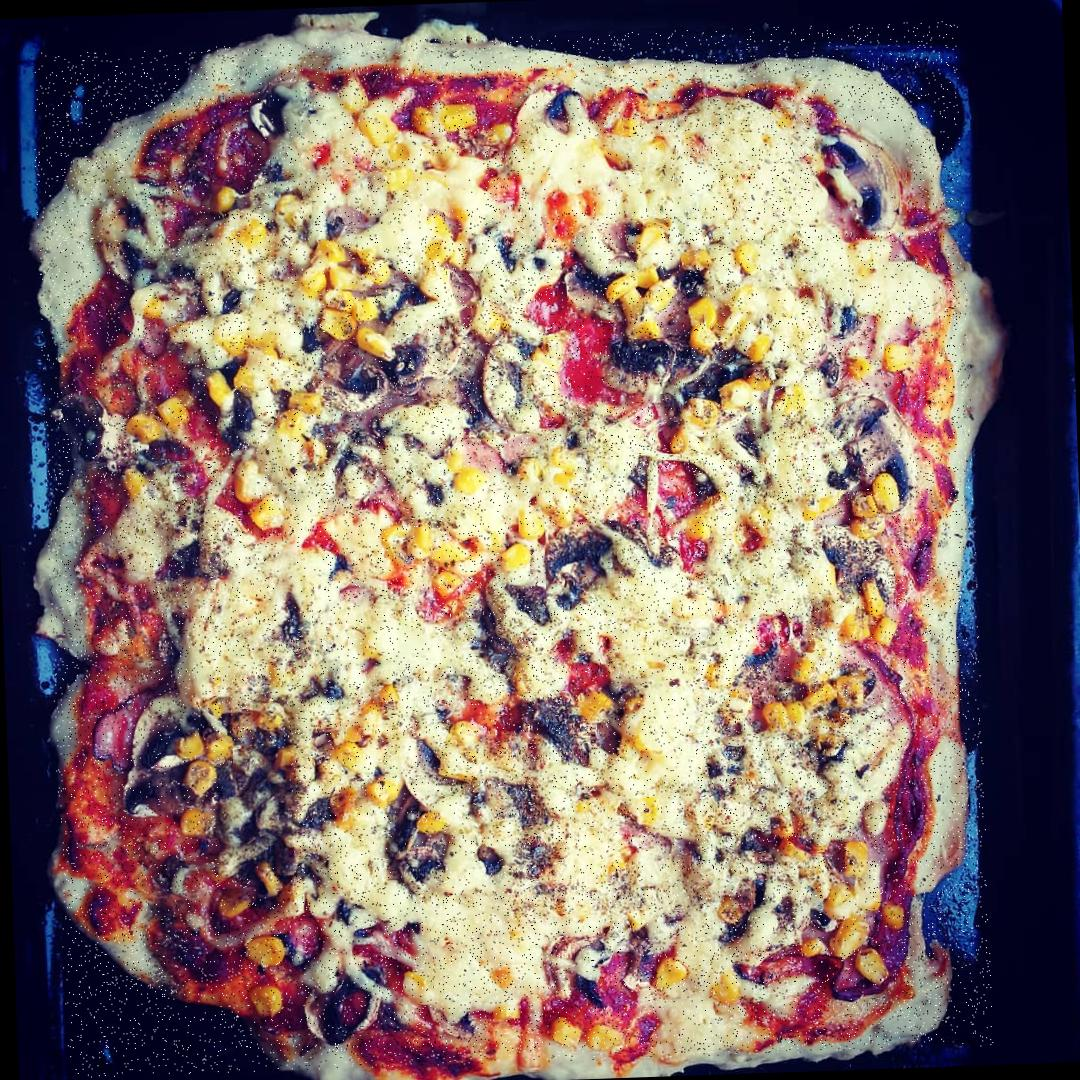Cheese: (682, 128, 800, 246), (529, 136, 672, 214), (436, 889, 538, 995), (308, 108, 392, 223), (331, 606, 443, 686), (632, 667, 704, 788), (559, 798, 661, 882), (802, 241, 916, 312), (714, 514, 796, 609), (620, 584, 706, 666), (207, 551, 263, 665), (420, 154, 484, 212), (674, 869, 718, 950), (268, 544, 324, 600), (655, 1001, 716, 1050), (752, 746, 800, 808), (452, 788, 512, 836), (743, 270, 800, 317), (374, 202, 426, 250), (453, 839, 484, 896)
Corn: (410, 94, 492, 138), (254, 480, 292, 535), (314, 299, 358, 343), (214, 313, 261, 354), (855, 939, 892, 988), (250, 322, 295, 362), (234, 454, 266, 510), (330, 785, 366, 834), (243, 934, 290, 970), (586, 1017, 627, 1058), (542, 1012, 584, 1052), (179, 796, 218, 838), (310, 232, 348, 275), (149, 394, 194, 430), (857, 577, 892, 623), (228, 214, 270, 252), (380, 516, 410, 569), (680, 244, 722, 280), (248, 983, 286, 1022), (233, 356, 270, 396), (254, 856, 286, 902), (204, 368, 239, 410), (656, 956, 694, 994), (182, 754, 218, 794), (822, 873, 854, 918), (128, 414, 170, 448), (834, 916, 871, 954), (511, 502, 545, 543), (214, 888, 252, 924), (753, 698, 795, 730), (580, 684, 617, 720), (609, 108, 644, 146), (170, 729, 210, 762), (330, 738, 371, 770), (614, 288, 650, 324), (790, 646, 820, 689), (359, 112, 399, 144), (779, 842, 816, 876), (118, 466, 152, 502), (782, 692, 816, 728), (135, 286, 172, 319), (358, 324, 394, 357), (250, 704, 288, 735), (687, 398, 725, 429), (367, 774, 406, 804), (428, 564, 461, 599), (636, 218, 668, 254), (606, 269, 642, 301), (286, 387, 327, 415), (221, 708, 262, 736), (730, 235, 760, 273), (843, 842, 873, 880), (875, 467, 902, 508), (408, 518, 432, 564), (296, 263, 330, 295), (724, 378, 756, 412), (432, 541, 472, 568), (627, 310, 664, 339), (795, 930, 832, 959), (450, 712, 478, 750), (838, 611, 871, 643), (209, 181, 240, 215), (325, 261, 360, 291), (809, 674, 837, 711), (548, 440, 580, 472), (454, 464, 485, 497), (878, 902, 907, 937), (836, 667, 862, 706), (502, 536, 530, 572), (884, 340, 912, 376), (326, 282, 358, 312), (274, 409, 306, 439), (204, 733, 233, 766), (275, 186, 300, 224), (353, 296, 384, 326), (689, 297, 722, 325), (403, 972, 433, 1001), (748, 330, 777, 360), (385, 162, 416, 190), (200, 696, 230, 724), (690, 324, 718, 354), (716, 974, 744, 1004), (637, 259, 663, 291), (520, 456, 544, 490), (876, 616, 900, 648), (486, 117, 514, 144), (552, 464, 578, 492), (356, 703, 385, 728), (374, 680, 406, 702), (804, 493, 832, 518), (344, 722, 369, 748), (851, 494, 880, 516), (849, 356, 870, 383), (389, 138, 414, 160), (444, 448, 466, 472)
Mushroom: (815, 120, 908, 235), (216, 747, 293, 878), (812, 517, 897, 616), (298, 960, 389, 1046), (88, 186, 162, 288), (510, 688, 596, 770), (127, 685, 218, 761), (591, 325, 681, 401), (837, 389, 912, 472), (477, 325, 538, 420), (376, 786, 435, 882), (544, 522, 618, 598), (113, 753, 184, 824), (551, 254, 622, 322), (509, 80, 586, 129), (324, 344, 388, 396), (146, 841, 196, 906), (247, 82, 298, 143)
Pizza: (31, 20, 993, 1078)
